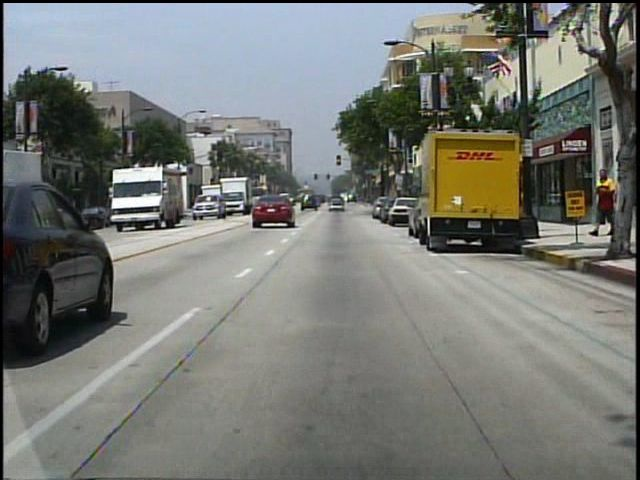person: (588, 166, 615, 238)
